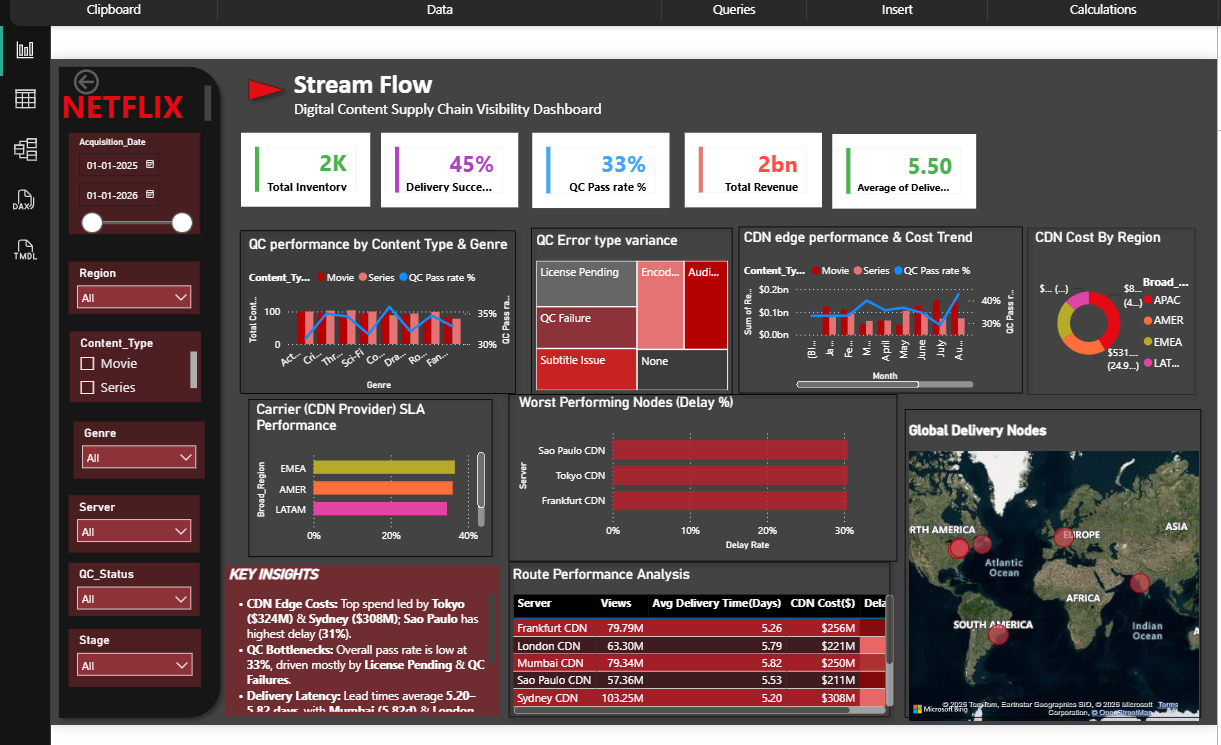

Layout of this report page (visuals, bound fields, positions):
{"tool":"powerbi","page":{"name":"Milestone 3","canvas":[1400,800],"ordinal":3},"visuals":[{"type":"shape","box":[0,0,212.7,800.3],"z":0},{"type":"textbox","box":[6.8,27.3,189.5,55.9],"z":1000},{"type":"cardVisual","fields":{"Data":["Netflix_Content_Supply_Chain.Quality Rate"]},"box":[577.8,88.5,165,90],"z":2000},{"type":"cardVisual","fields":{"Data":["Avg(Netflix_Content_Supply_Chain.Delivery Time (Days))"]},"box":[938.3,89.8,172.9,89.8],"z":3000},{"type":"cardVisual","fields":{"Data":["Netflix_Content_Supply_Chain.Total Inventory"]},"box":[227.9,88.5,155.5,88.5],"z":4000},{"type":"shape","box":[227.9,14.7,63,44.2],"z":5000},{"type":"textbox","box":[286.9,6.7,191.7,61.7],"z":6000},{"type":"textbox","box":[286.9,44.2,394.1,40.2],"z":7000},{"type":"shape","box":[217.2,197.1,349.9,214.5],"z":8000},{"type":"shape","box":[567,193,260.1,218.5],"z":9000},{"type":"shape","box":[539.7,594.5,476.7,205.5],"z":10000},{"type":"slicer","fields":{"Values":["Netflix_Content_Supply_Chain.Stage"]},"box":[20.5,685,158.9,69.9],"z":11000},{"type":"slicer","fields":{"Values":["Netflix_Content_Supply_Chain.Content_Type"]},"box":[22.8,327.7,157.5,84.9],"z":12000},{"type":"slicer","fields":{"Values":["Netflix_Content_Supply_Chain.Genre"]},"box":[27.3,434.7,157.5,68.5],"z":13000},{"type":"slicer","fields":{"Values":["Netflix_Content_Supply_Chain.Region"]},"box":[20.5,243.5,157.5,63],"z":14000},{"type":"slicer","fields":{"Values":["Netflix_Content_Supply_Chain.Server"]},"box":[20.5,523.4,157.5,68.5],"z":15000},{"type":"slicer","fields":{"Values":["Netflix_Content_Supply_Chain.Acquisition_Date"]},"box":[20.5,88.8,157.5,121.9],"z":16000},{"type":"cardVisual","fields":{"Data":["Netflix_Content_Supply_Chain.Total Revenue"]},"box":[761.4,88.5,165,90],"z":17000},{"type":"slicer","fields":{"Values":["Netflix_Content_Supply_Chain.QC_Status"]},"box":[20.5,605.3,157.5,64.4],"z":18000},{"type":"cardVisual","fields":{"Data":["Netflix_Content_Supply_Chain.Delivery Success %"]},"box":[396.8,88.5,165,90],"z":19000},{"type":"lineClusteredColumnComboChart","title":"QC performance by Content Type & Genre","fields":{"Category":["Netflix_Content_Supply_Chain.Genre"],"Y":["Netflix_Content_Supply_Chain.Total Content"],"Y2":["Netflix_Content_Supply_Chain.QC Pass rate %"],"Series":["Netflix_Content_Supply_Chain.Content_Type"]},"box":[233.2,211.8,325.7,190.3],"z":20000},{"type":"treemap","title":"QC Error type variance","fields":{"Group":["Netflix_Content_Supply_Chain.Delay_Reason"],"Values":["CountNonNull(Netflix_Content_Supply_Chain.Movie_ID)"]},"box":[577.8,206.4,239.9,195.7],"z":21000},{"type":"lineClusteredColumnComboChart","title":"CDN edge performance & Cost Trend","fields":{"Y":["Sum(Netflix_Content_Supply_Chain.Revenue)"],"Y2":["Netflix_Content_Supply_Chain.QC Pass rate %"],"Series":["Netflix_Content_Supply_Chain.Content_Type"],"Category":["Netflix_Content_Supply_Chain.Release_Date.Variation.Date Hierarchy.Month"]},"box":[827.1,203.8,336.5,195.7],"z":22000},{"type":"donutChart","title":"CDN  Cost By Region","fields":{"Category":["Netflix_Content_Supply_Chain.Broad_Region"],"Y":["Sum(Netflix_Content_Supply_Chain.Revenue)"]},"box":[1176.9,203.8,206.4,195.7],"z":23000},{"type":"shape","box":[1163.5,193,219.8,218.5],"z":24000},{"type":"shape","box":[816.4,191.7,359.3,218.5],"z":25000},{"type":"shape","box":[227.9,399.5,311,207.8],"z":26000},{"type":"clusteredBarChart","title":"Carrier (CDN Provider) SLA Performance","fields":{"Y":["Netflix_Content_Supply_Chain.QC Pass rate %"],"Category":["Netflix_Content_Supply_Chain.Broad_Region"]},"box":[241.3,410.2,284.2,181],"z":27000},{"type":"tableEx","title":"Route Performance Analysis","fields":{"Values":["Netflix_Content_Supply_Chain.Server","Sum(Netflix_Content_Supply_Chain.Views)","Avg(Netflix_Content_Supply_Chain.Delivery Time (Days))","Sum(Netflix_Content_Supply_Chain.Revenue)","Netflix_Content_Supply_Chain.Delay Rate"]},"box":[549.3,608.2,467.1,183.6],"z":28000},{"type":"textbox","title":"KEY INSIGHTS","box":[209.1,608.6,329.8,181],"z":29000},{"type":"map","title":"Global Delivery Nodes","fields":{"Size":["Netflix_Content_Supply_Chain.Delay Rate"],"Category":["Netflix_Content_Supply_Chain.Server"]},"box":[1024.7,435.6,357.9,364.6],"z":30000},{"type":"shape","box":[1016.4,411,374,388.7],"z":31000},{"type":"actionButton","box":[22.8,6.8,100,40],"z":32000},{"type":"clusteredBarChart","title":"Worst Performing Nodes (Delay %)","fields":{"Category":["Netflix_Content_Supply_Chain.Server"],"Y":["Netflix_Content_Supply_Chain.Delay Rate"]},"box":[557.5,402.7,458.9,191.8],"z":33000},{"type":"shape","box":[539.7,393.2,484.9,219.2],"z":34000}]}

Visuals, with their boxes on the page's 1400x800 design canvas (x1, y1, x2, y2). These are canvas units, not pixel positions in the 1221x745 screenshot, which may show the page scaled, cropped or inside an application window:
shape: bbox(0, 0, 213, 800)
textbox: bbox(7, 27, 196, 83)
cardVisual - Netflix_Content_Supply_Chain.Quality Rate: bbox(578, 88, 743, 178)
cardVisual - Avg(Netflix_Content_Supply_Chain.Delivery Time (Days)): bbox(938, 90, 1111, 180)
cardVisual - Netflix_Content_Supply_Chain.Total Inventory: bbox(228, 88, 383, 177)
shape: bbox(228, 15, 291, 59)
textbox: bbox(287, 7, 479, 68)
textbox: bbox(287, 44, 681, 84)
shape: bbox(217, 197, 567, 412)
shape: bbox(567, 193, 827, 412)
shape: bbox(540, 594, 1016, 800)
slicer - Netflix_Content_Supply_Chain.Stage: bbox(20, 685, 179, 755)
slicer - Netflix_Content_Supply_Chain.Content_Type: bbox(23, 328, 180, 413)
slicer - Netflix_Content_Supply_Chain.Genre: bbox(27, 435, 185, 503)
slicer - Netflix_Content_Supply_Chain.Region: bbox(20, 244, 178, 306)
slicer - Netflix_Content_Supply_Chain.Server: bbox(20, 523, 178, 592)
slicer - Netflix_Content_Supply_Chain.Acquisition_Date: bbox(20, 89, 178, 211)
cardVisual - Netflix_Content_Supply_Chain.Total Revenue: bbox(761, 88, 926, 178)
slicer - Netflix_Content_Supply_Chain.QC_Status: bbox(20, 605, 178, 670)
cardVisual - Netflix_Content_Supply_Chain.Delivery Success %: bbox(397, 88, 562, 178)
"QC performance by Content Type & Genre" lineClusteredColumnComboChart: bbox(233, 212, 559, 402)
"QC Error type variance" treemap: bbox(578, 206, 818, 402)
"CDN edge performance & Cost Trend" lineClusteredColumnComboChart: bbox(827, 204, 1164, 400)
"CDN  Cost By Region" donutChart: bbox(1177, 204, 1383, 400)
shape: bbox(1164, 193, 1383, 412)
shape: bbox(816, 192, 1176, 410)
shape: bbox(228, 400, 539, 607)
"Carrier (CDN Provider) SLA Performance" clusteredBarChart: bbox(241, 410, 526, 591)
"Route Performance Analysis" tableEx: bbox(549, 608, 1016, 792)
"KEY INSIGHTS" textbox: bbox(209, 609, 539, 790)
"Global Delivery Nodes" map: bbox(1025, 436, 1383, 800)
shape: bbox(1016, 411, 1390, 800)
actionButton: bbox(23, 7, 123, 47)
"Worst Performing Nodes (Delay %)" clusteredBarChart: bbox(558, 403, 1016, 594)
shape: bbox(540, 393, 1025, 612)
